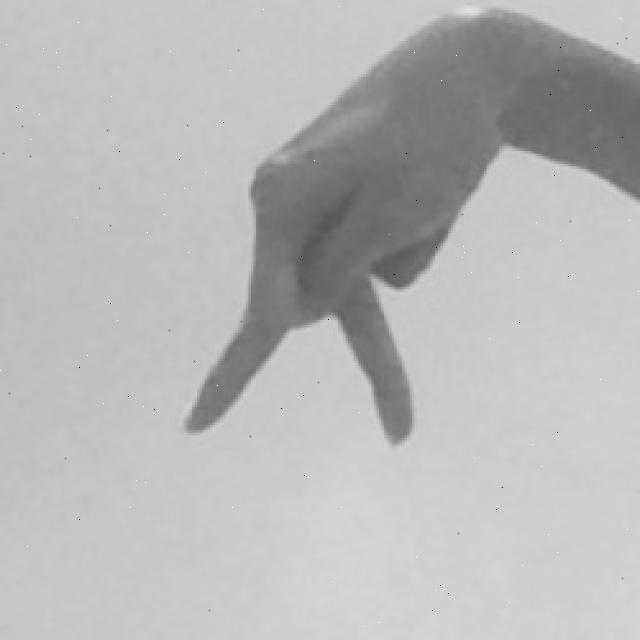P: (179, 5, 640, 452)
